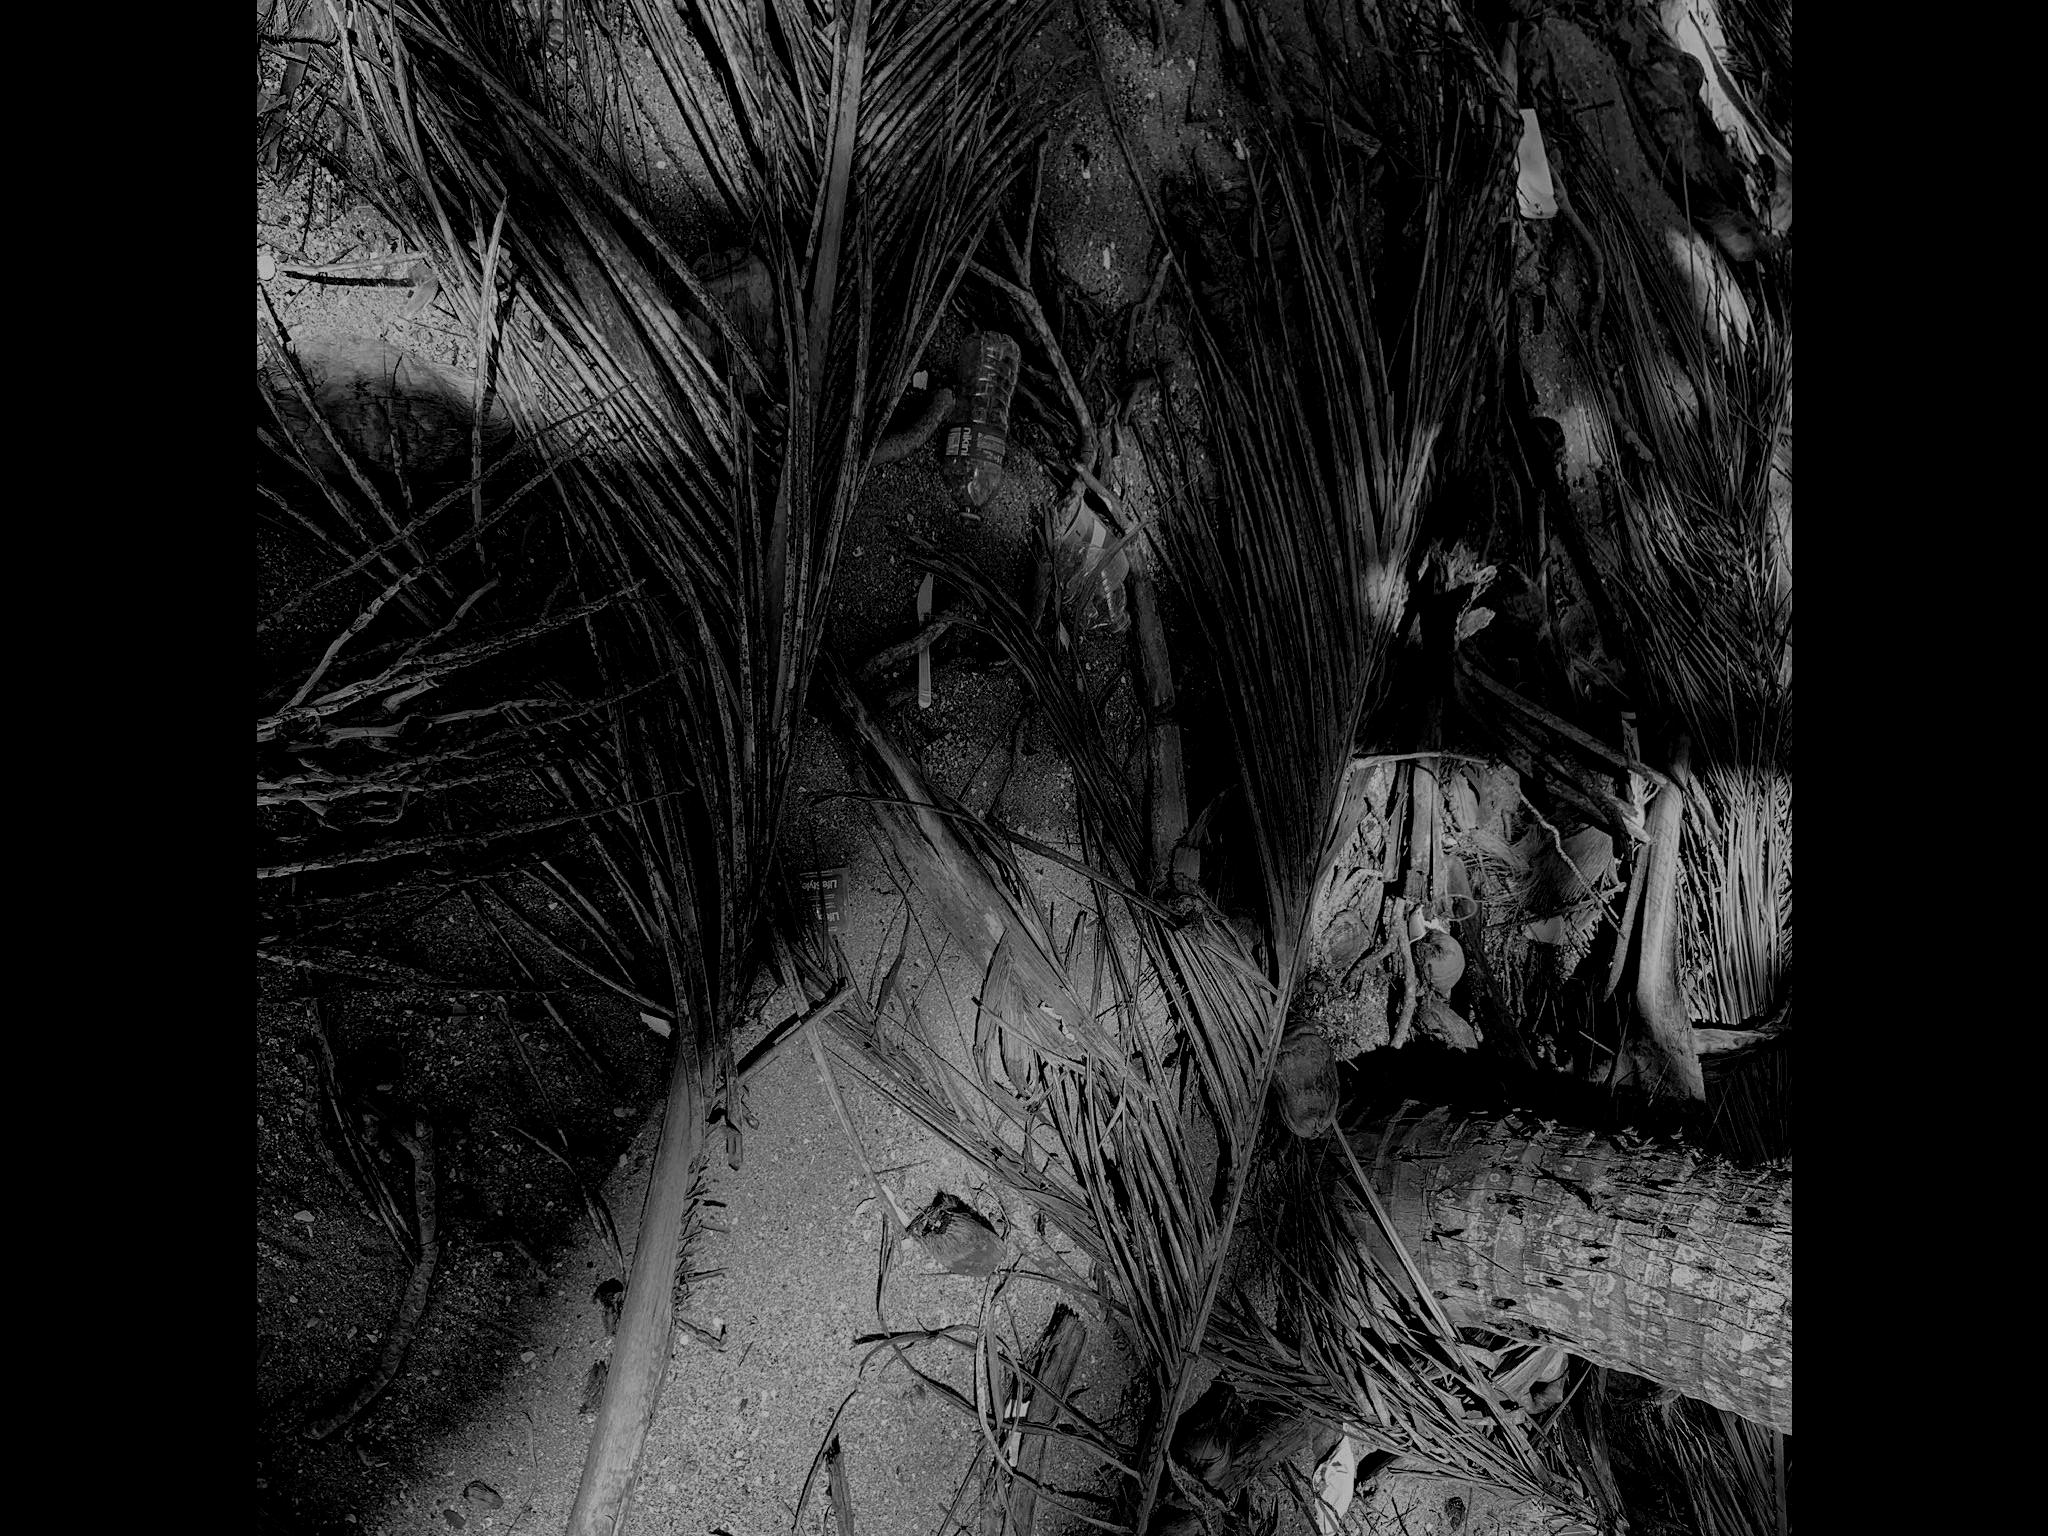bottle: (910, 305, 1066, 534)
